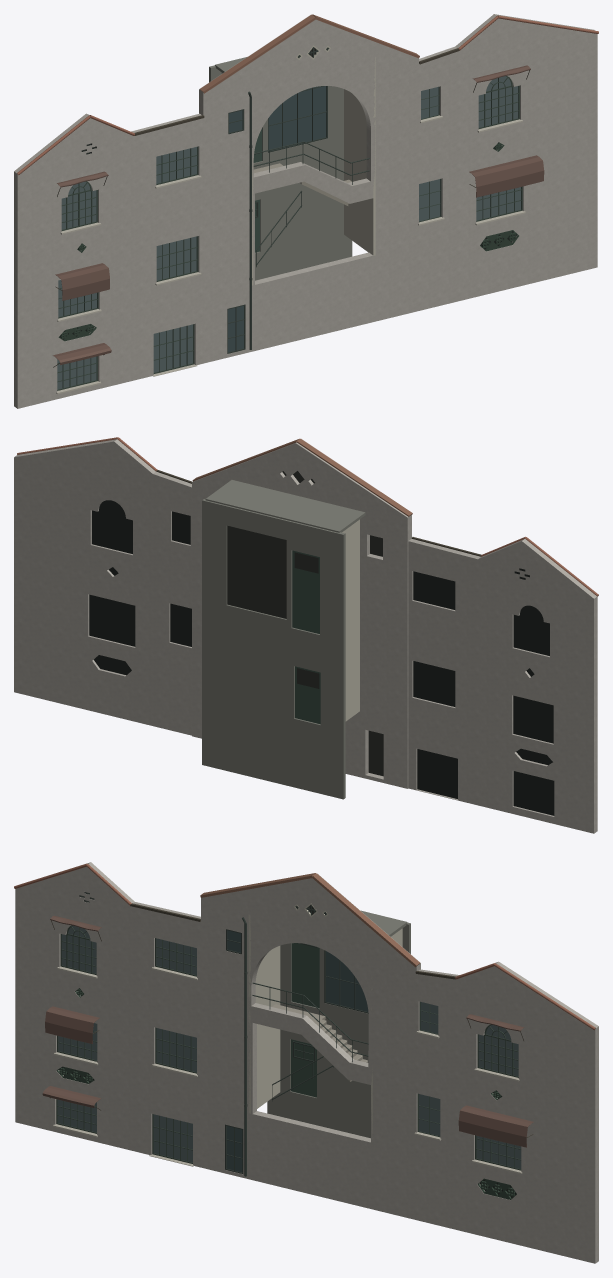
The model's file is full-source.glb.
3 renders of one model, top to bottom at view 1: azimuth 30°, elevation 25°; view 2: azimuth 150°, elevation 25°; view 3: azimuth 330°, elevation 25°, orthographic.
Parts seen in each view (by area): view 1: 华山路823、825、827号院临街住宅三山墙与明梯; view 2: 华山路823、825、827号院临街住宅三山墙与明梯; view 3: 华山路823、825、827号院临街住宅三山墙与明梯.
Part boxes in pixels (<box>): 华山路823、825、827号院临街住宅三山墙与明梯: <box>14,14,598,408</box>; 华山路823、825、827号院临街住宅三山墙与明梯: <box>14,437,598,833</box>; 华山路823、825、827号院临街住宅三山墙与明梯: <box>14,862,598,1263</box>.
Size of the model in its own units: 25.76 by 13.54 by 2.99.
Materials: 17 (1 with a texture image).
